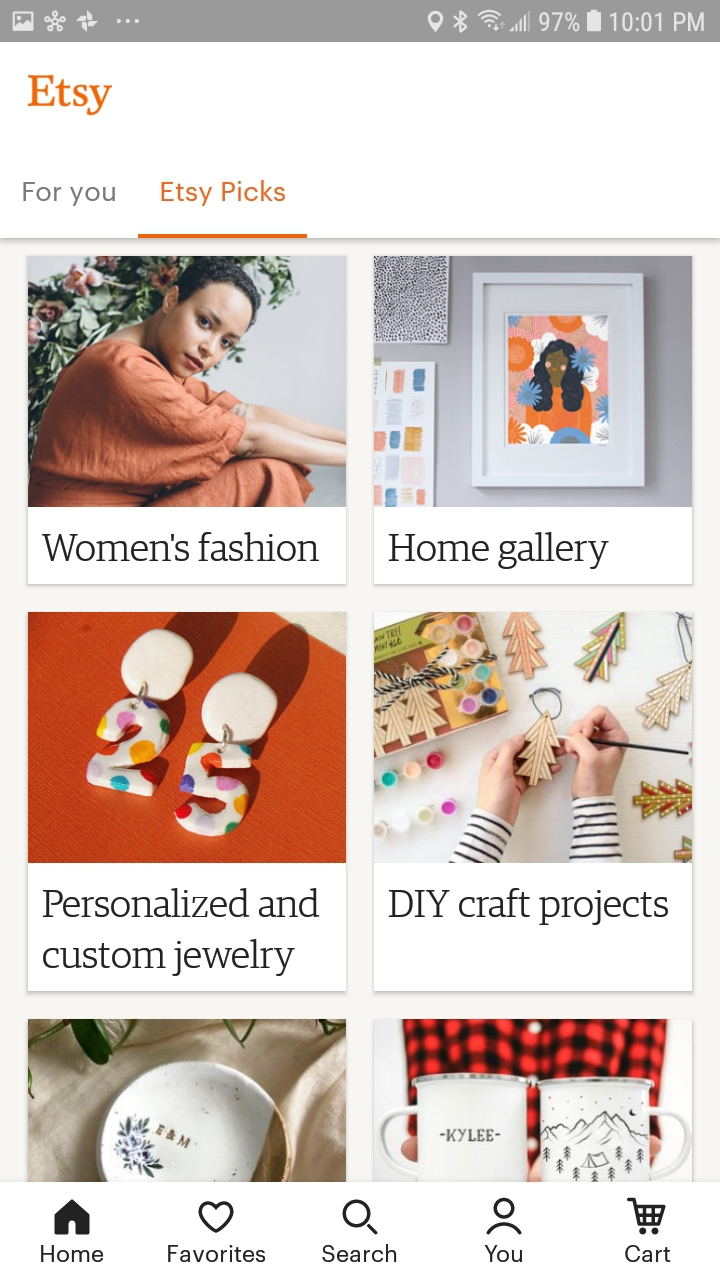Icon: (627, 1197, 666, 1235), (342, 1198, 379, 1235), (54, 1199, 91, 1236), (486, 1197, 522, 1235), (199, 1200, 235, 1233)
Image: (374, 257, 693, 508), (374, 612, 692, 863), (29, 612, 347, 863), (29, 257, 347, 508), (374, 1019, 692, 1182), (29, 1019, 347, 1182)
Text: (42, 887, 321, 977), (389, 887, 669, 926), (389, 531, 610, 570), (43, 532, 321, 563), (27, 75, 113, 117), (161, 180, 286, 207), (23, 182, 116, 207), (168, 1245, 266, 1263), (322, 1244, 397, 1263), (41, 1245, 105, 1263), (625, 1244, 671, 1263), (484, 1244, 523, 1263)
UpperTaskBar: (1, 1, 720, 43)
